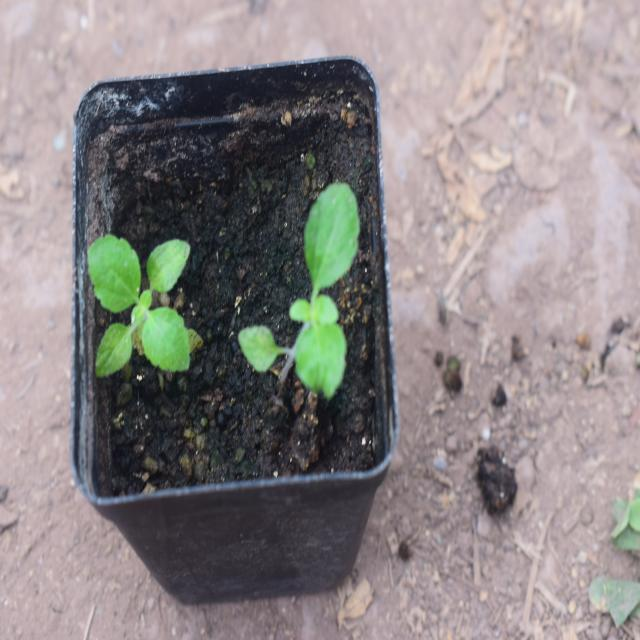billygoat_weed: (250, 146, 370, 412), (86, 213, 202, 380)
